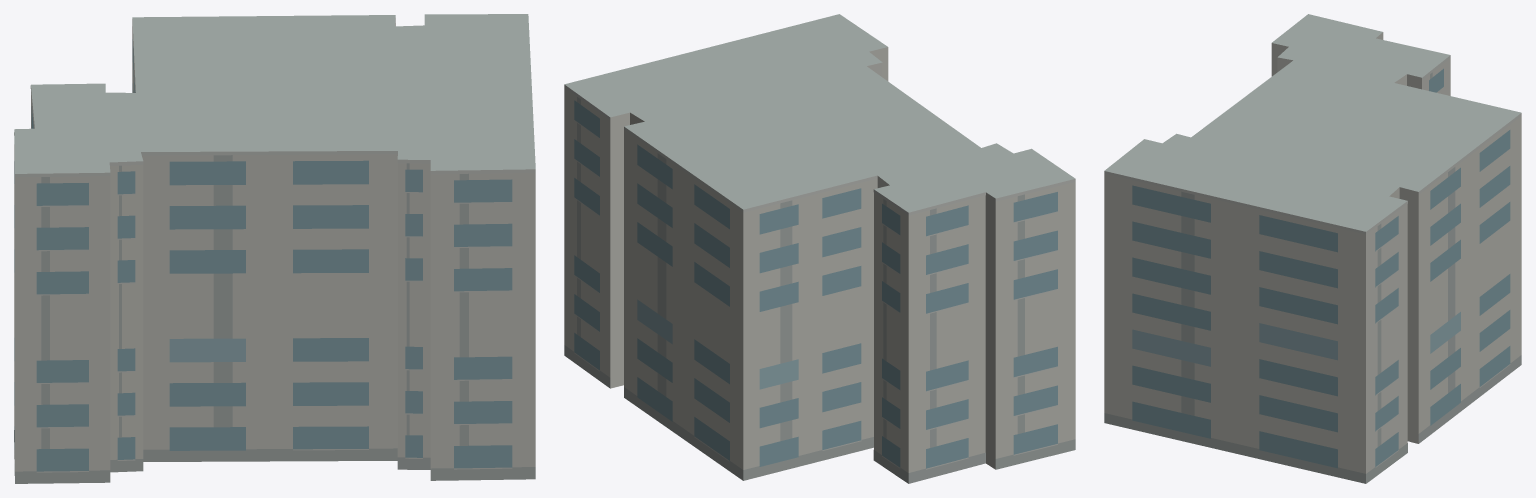
File: survey-upis-33030651.glb
3 renders of one model, left to right at view 1: azimuth 30°, elevation 25°; view 2: azimuth 150°, elevation 25°; view 3: azimuth 270°, elevation 25°, orthographic. The views are drawn at different scales.
Parts seen in each view (by area): view 1: survey-upis-33030651.tmp; view 2: survey-upis-33030651.tmp; view 3: survey-upis-33030651.tmp.
Boxes of the visible parts, bbox=[...] form: survey-upis-33030651.tmp: bbox=[14, 14, 535, 483]; survey-upis-33030651.tmp: bbox=[564, 14, 1075, 483]; survey-upis-33030651.tmp: bbox=[1104, 14, 1521, 483].
Size of the model in its own units: 40.04 by 21.6 by 32.43.
